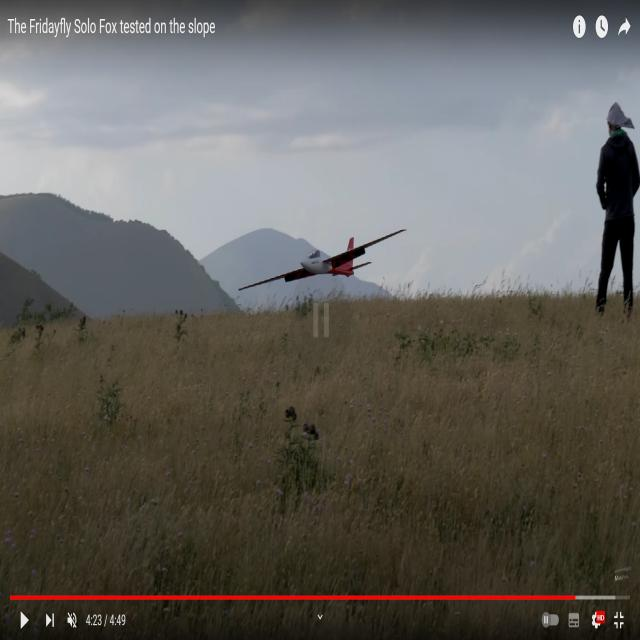iha: (229, 232, 408, 291)
